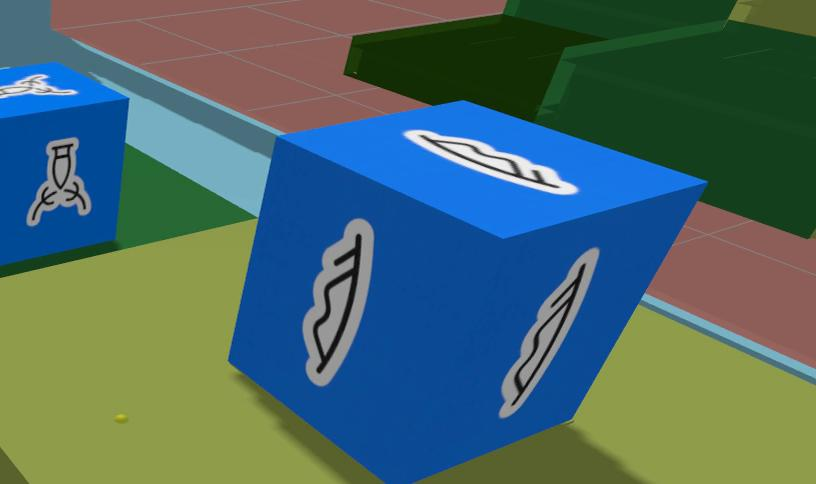KFS_REAL: (228, 101, 704, 483), (0, 62, 128, 264), (499, 248, 598, 417), (301, 219, 373, 385), (403, 129, 578, 194), (26, 138, 91, 225), (0, 74, 77, 98)
